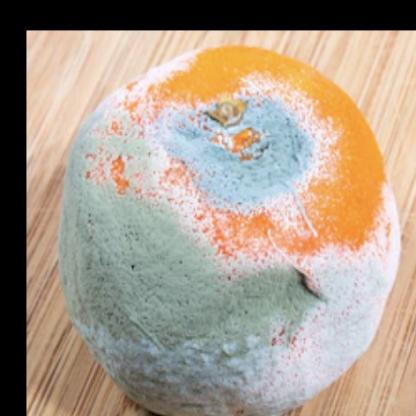rotten: (63, 46, 398, 416)
